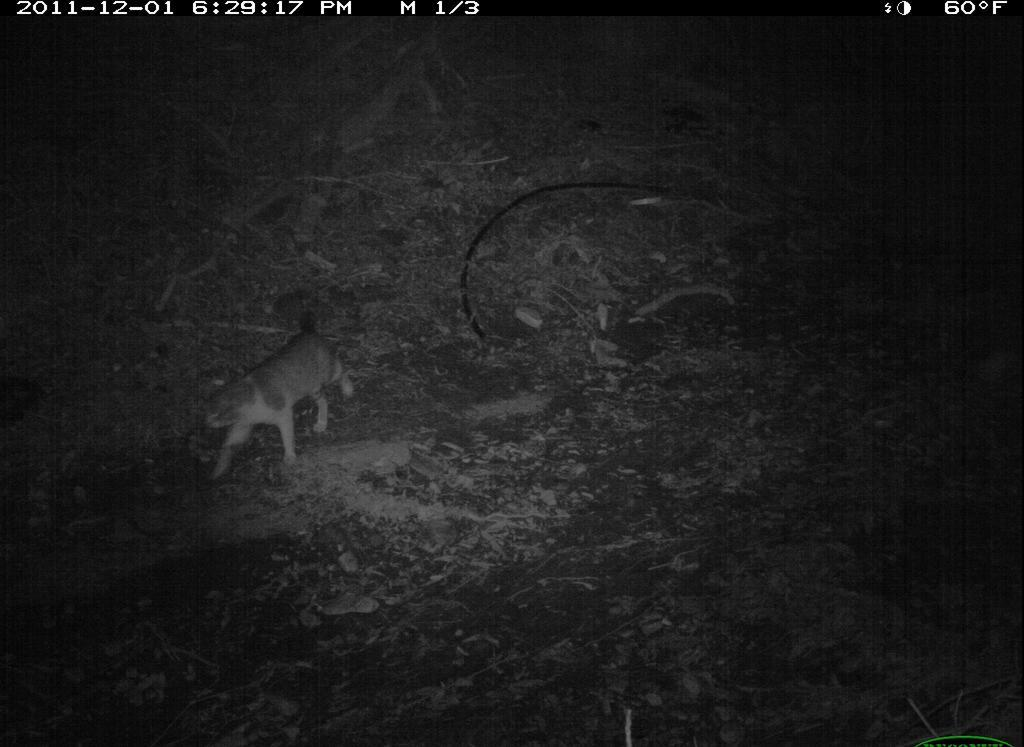cat: (193, 309, 361, 481)
